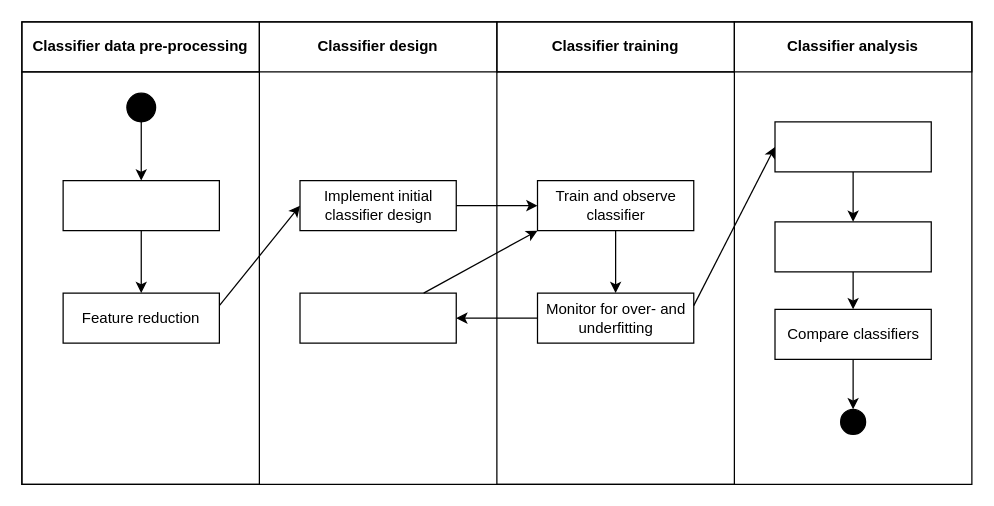
Some shapes in this 994 by 506 pixel diagram are drawn without their labels. Here are the shapes that lost their labels. From the top down, the centre of each, then its label:
(852,146): Analyse classifier accuracies
(140,205): Zero-padding
(852,246): Visualize classifier learning
(377,317): Improve classifier design
